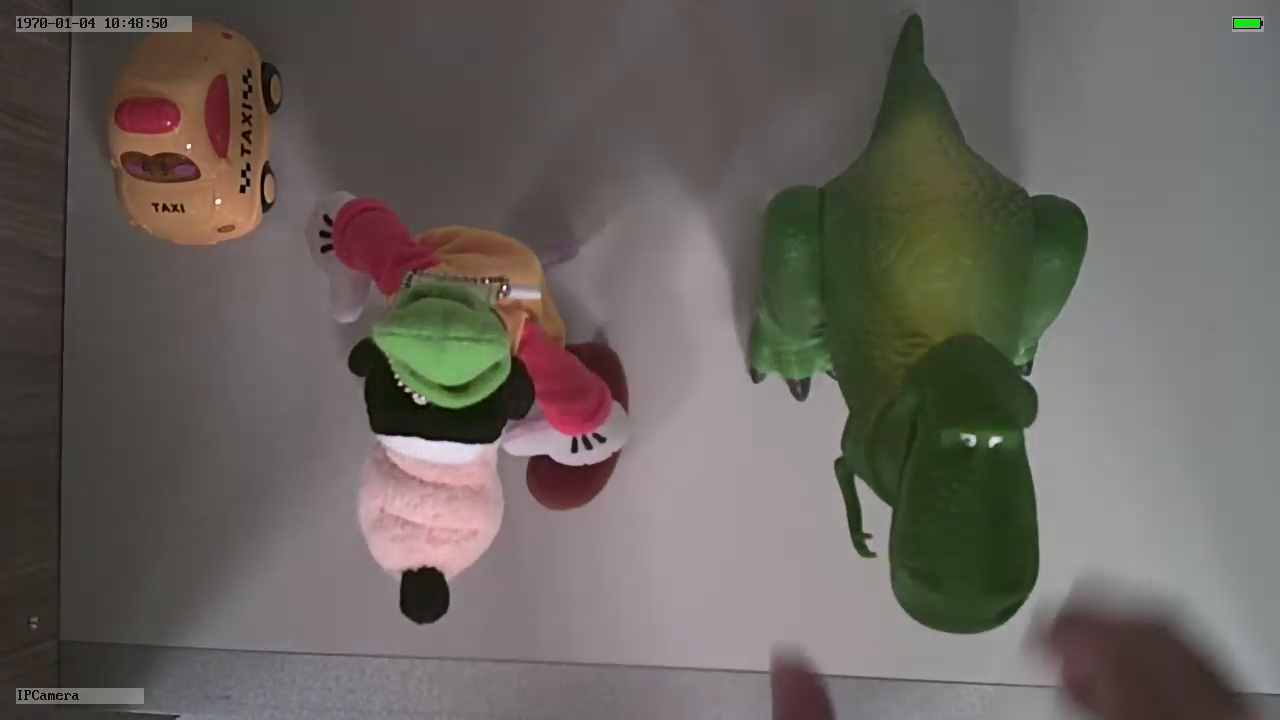goofy: (304, 186, 633, 630)
